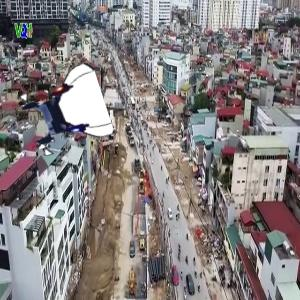drone: (22, 71, 107, 156)
